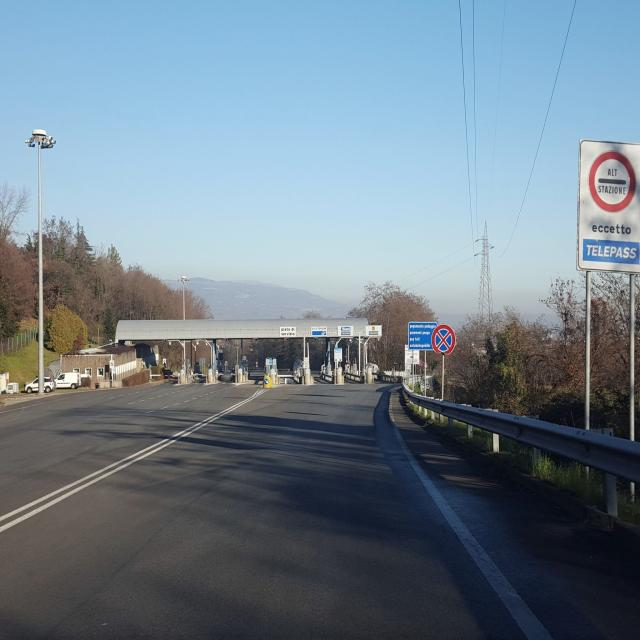car: (22, 376, 54, 394), (5, 383, 19, 394)
